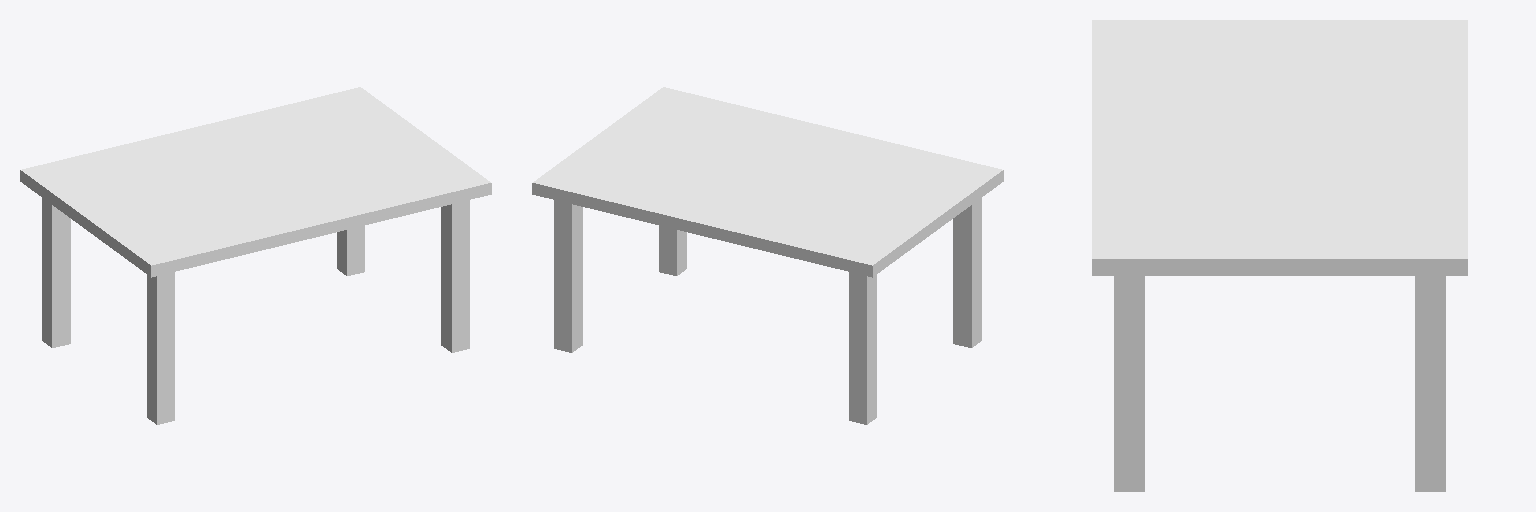
robot.urdf — table.urdf:
<?xml version="1.0" ?>
<robot name="table.urdf">
  <material name="white">
    <color rgba="1 1 1 1"/>
  </material>
  <link name="baseLink">
    <contact>
      <lateral_friction value="1.0"/>
    </contact>
    <inertial>
      <origin rpy="0 0 0" xyz="0 0 0"/>
       <mass value=".0"/>
       <inertia ixx="1" ixy="0" ixz="0" iyy="1" iyz="0" izz="1"/>
    </inertial>
    <visual>
      <origin rpy="0 0 0" xyz="0 0 0.7"/>
      <geometry>
				<mesh filename="table.obj" scale="1.5 1 0.05"/>
      </geometry>
	  <material name="white"/>
    </visual>
    <collision>
      <origin rpy="0 0 0" xyz="0 0 0.7"/>
      <geometry>
	 	<box size="1.5 1 0.05"/>
      </geometry>
    </collision>
	<visual>
      <origin rpy="0 0 0" xyz="-0.65 -0.4 0.365"/>
      <geometry>
	    <mesh filename="table.obj" scale="0.08 0.08 0.7"/>
      </geometry>
	  <material name="white"/>
    </visual>
    <visual>
      <origin rpy="0 0 0" xyz="-0.65 0.4 0.365"/>
      <geometry>
        <mesh filename="table.obj" scale="0.08 0.08 0.7"/>
      </geometry>
	  <material name="white"/>
	  </visual>
    <visual>
      <origin rpy="0 0 0" xyz="0.65 -0.4 0.365"/>
      <geometry>
        <mesh filename="table.obj" scale="0.08 0.08 0.7"/>
      </geometry>
	  <material name="white"/>
	  </visual>
    <visual>
      <origin rpy="0 0 0" xyz="0.65 0.4 0.365"/>
      <geometry>
        <mesh filename="table.obj" scale="0.08 0.08 0.7"/>
      </geometry>
	  <material name="white"/>
    </visual>
  </link>
</robot>


--- What the picture shows (computed from the rendered views, not written in the file) ---
The picture shows the robot from 3 angles, left to right: view 1: azimuth 30°, elevation 25°; view 2: azimuth 150°, elevation 25°; view 3: azimuth 270°, elevation 25°; orthographic projection.
Robot: table.urdf — 1 links, 0 joints (none); root link baseLink; default pose: every joint at zero.
Visible links, largest first — view 1: baseLink; view 2: baseLink; view 3: baseLink.
Boxes of the visible links, x1,y1,x2,y2 form: baseLink: [20, 87, 491, 424]; baseLink: [532, 87, 1003, 424]; baseLink: [1092, 20, 1467, 491].
Size in the robot's own frame: 1.5 by 1 by 0.71 metres.
5 mesh visuals loaded from 1 distinct referenced files (1 OBJ).